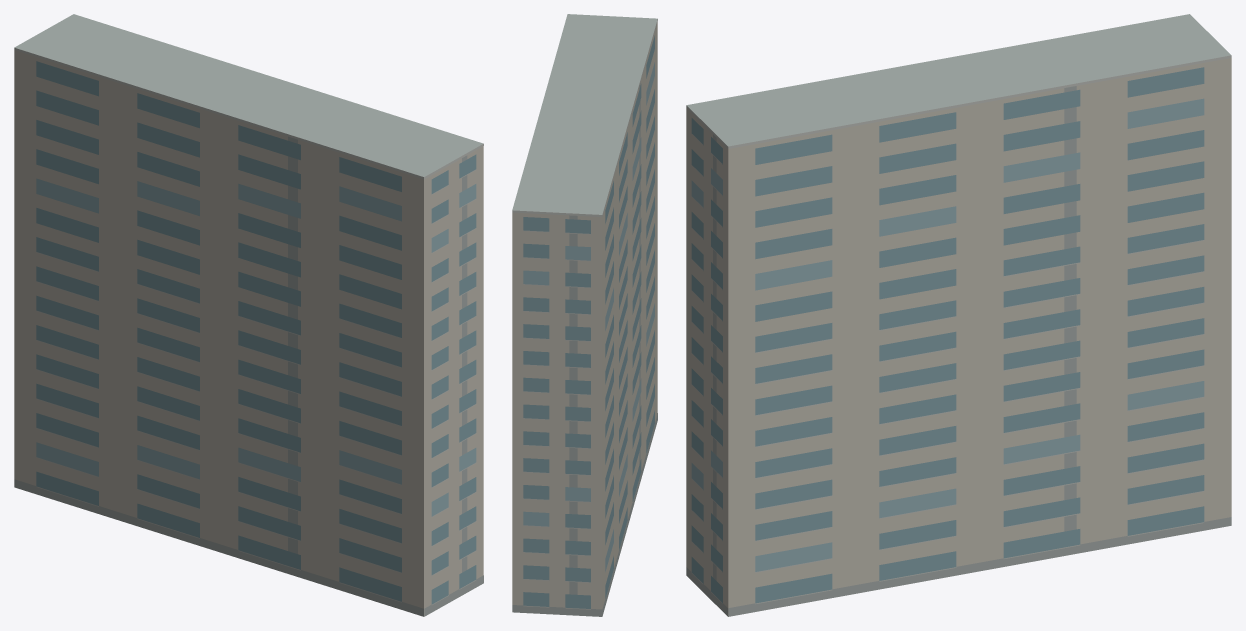
File: residential-49752477-1507-4ad6-889e-fb0350f2466e.glb
3 renders of one model, left to right at view 1: azimuth 30°, elevation 25°; view 2: azimuth 150°, elevation 25°; view 3: azimuth 270°, elevation 25°, orthographic. The views are drawn at different scales.
Parts seen in each view (by area): view 1: residential-49752477-1507-4ad6-889e-fb0350f2466e.tmp; view 2: residential-49752477-1507-4ad6-889e-fb0350f2466e.tmp; view 3: residential-49752477-1507-4ad6-889e-fb0350f2466e.tmp.
Part boxes in pixels (box(x1,y1,x2,y2)): residential-49752477-1507-4ad6-889e-fb0350f2466e.tmp: box(14, 14, 483, 616); residential-49752477-1507-4ad6-889e-fb0350f2466e.tmp: box(512, 14, 657, 616); residential-49752477-1507-4ad6-889e-fb0350f2466e.tmp: box(686, 14, 1231, 616).
Size of the model in its own units: 27.65 by 45.75 by 48.07.
